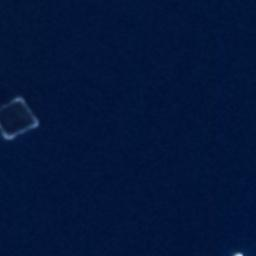square_solid: (1, 91, 42, 143)
